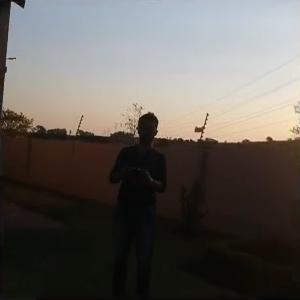follow: (102, 108, 173, 296)
